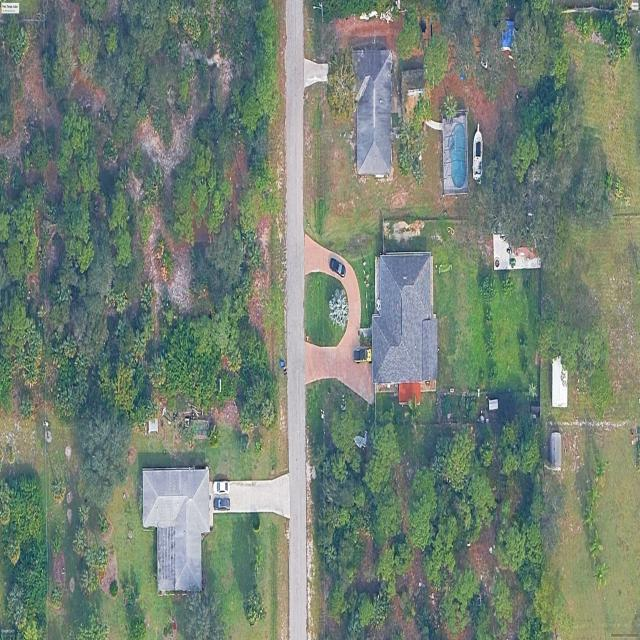Home: (372, 252, 438, 386), (142, 467, 210, 591), (352, 49, 392, 176)
